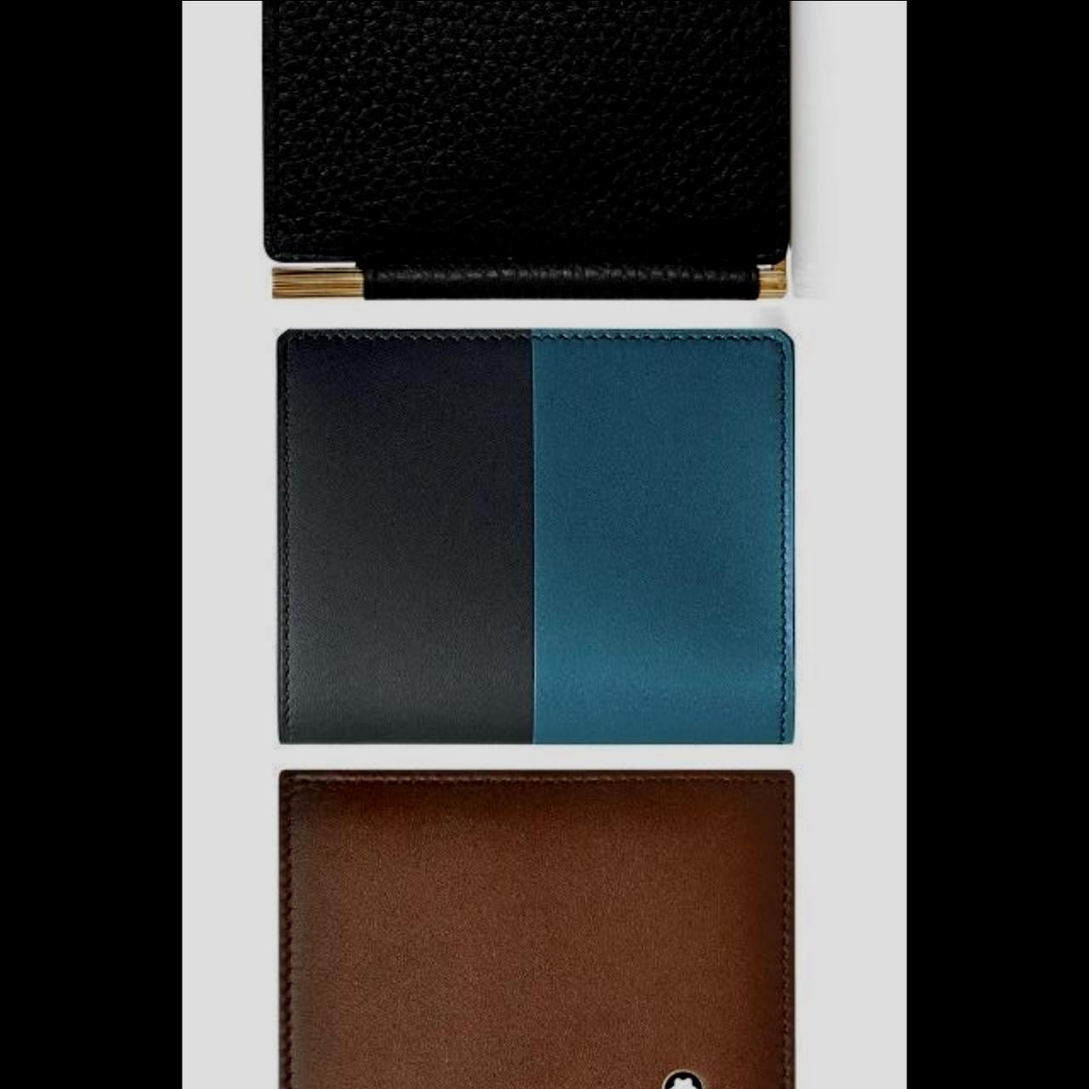wallet: (263, 319, 814, 753), (261, 760, 806, 1086), (255, 0, 807, 305)
